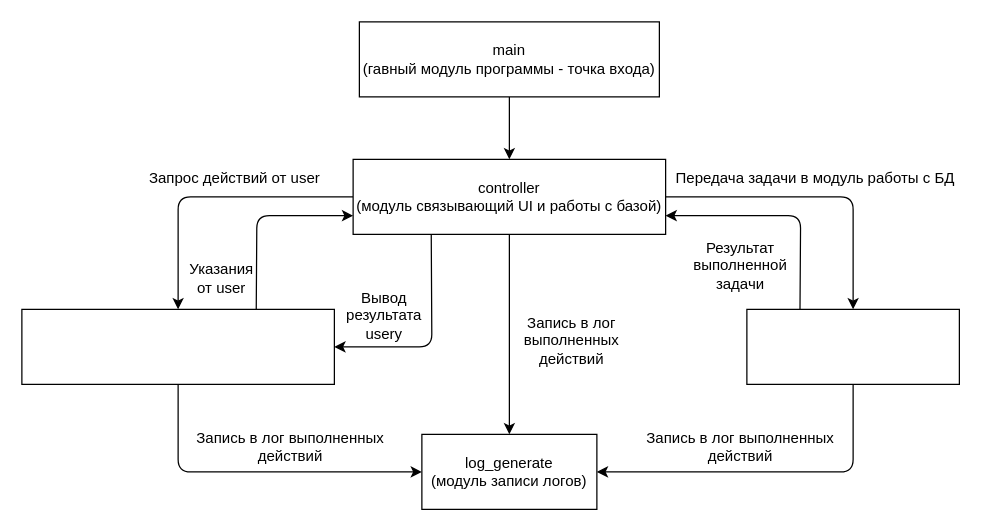
Image size: 981x531. Some labels were removed from this diagram. Here are the shapes that lost their labels. From the top down, the centre of each, then its label:
At (177,346): "user_interface (модуль работы с пользователем)".
At (852,346): "working_with_datebase (модуль работы с БД)".
